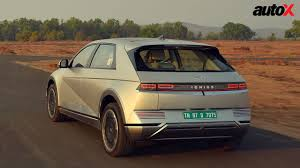Honda Ioniq: (37, 33, 257, 163)
